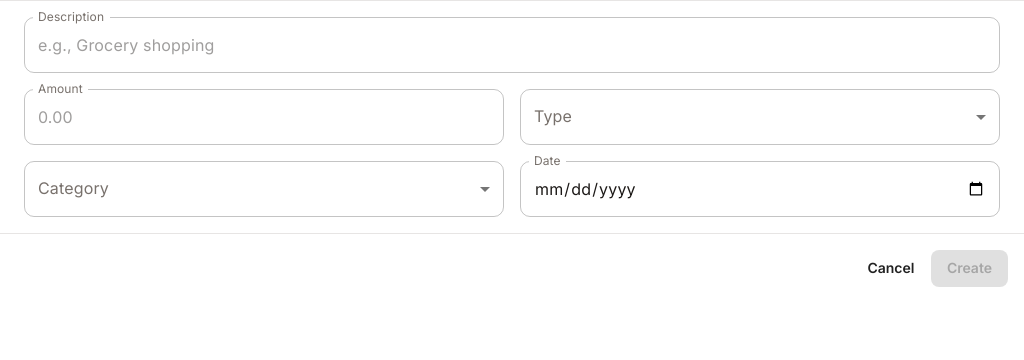
Test: TransactionForm › offers the categories loaded from the API
Click the dropdown named "category" next to "Category" at (264, 189), box [24,161,504,217]
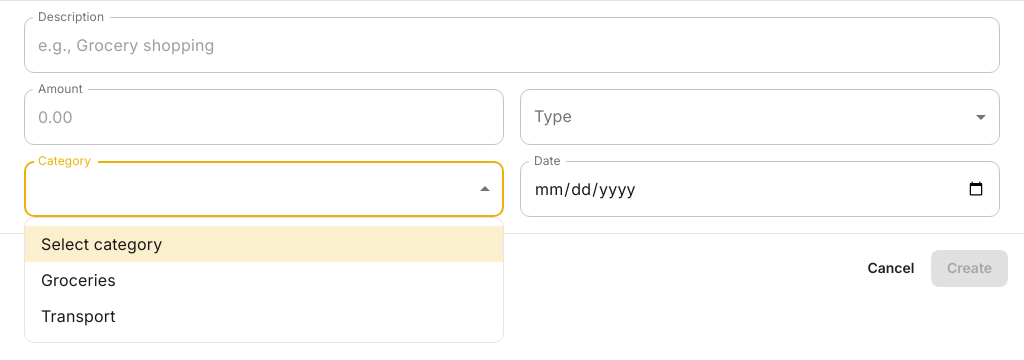
Expected: the option "Groceries" is shown, [41,270,116,290]
Expected: the option "Transport" is shown, [41,306,116,326]
